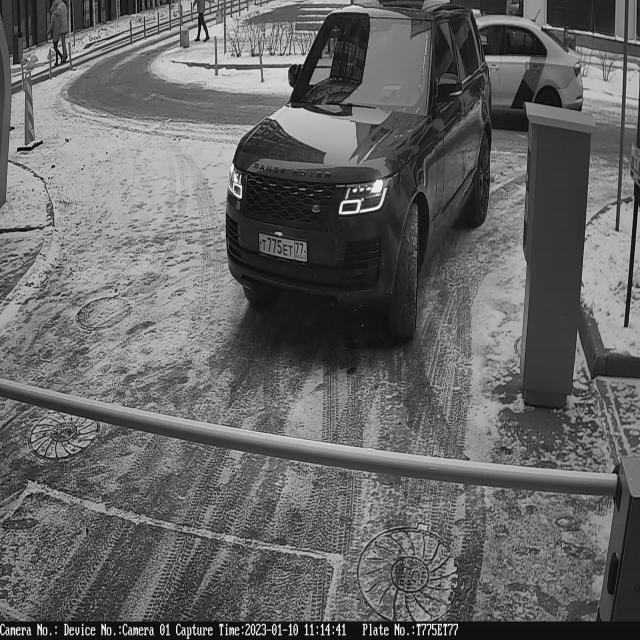car-plate-numbers: (255, 229, 310, 268)
